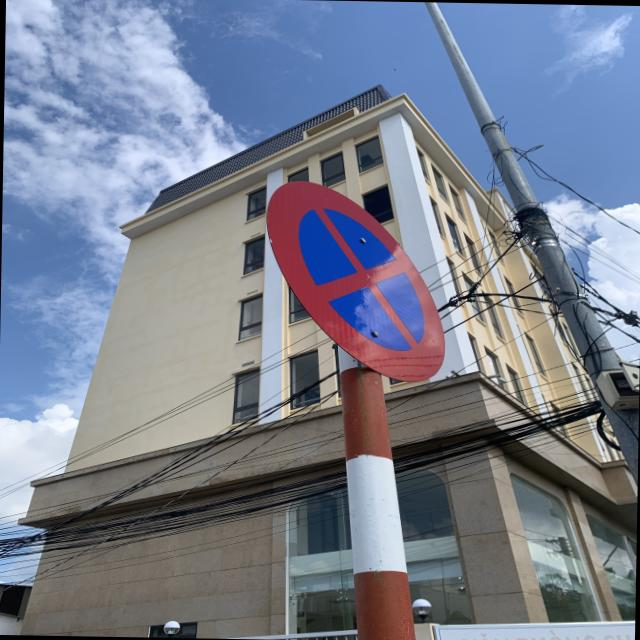Cam_Dung_Va_Dau_Xe: (262, 176, 453, 383)
